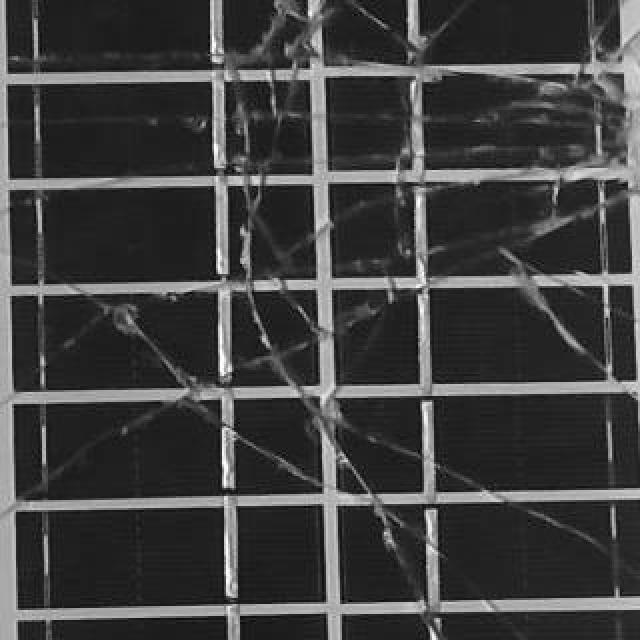Physical-damage: (207, 4, 640, 598), (22, 245, 202, 532)
